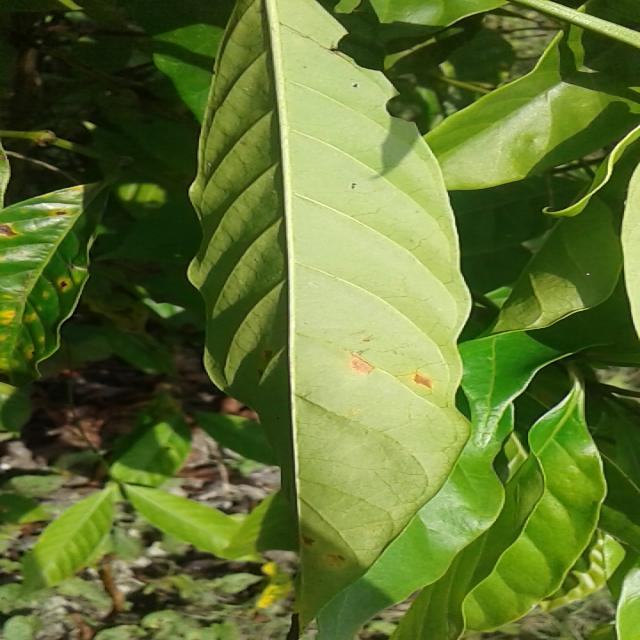Enfermedad-Roya: (202, 0, 474, 616)
